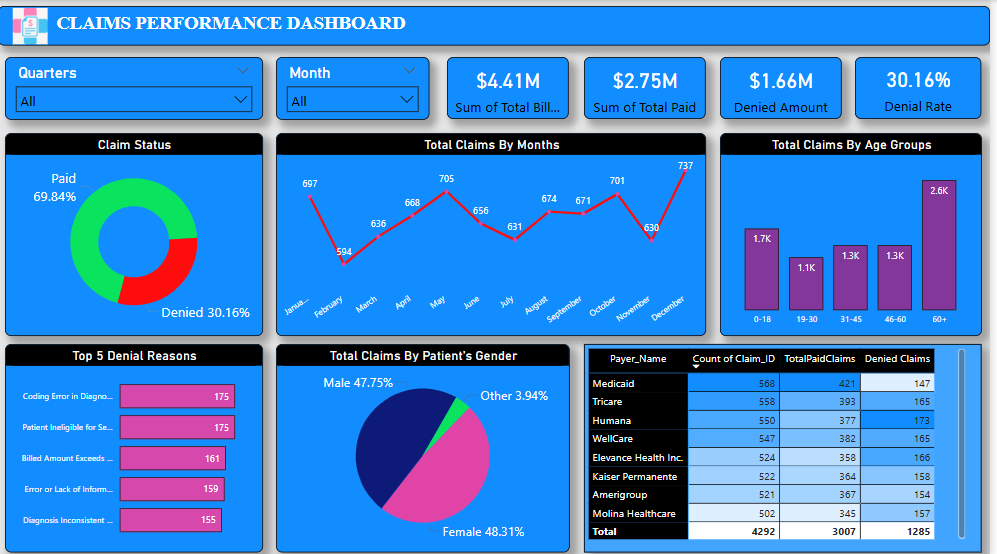

Layout of this report page (visuals, bound fields, positions):
{"tool":"powerbi","page":{"name":"Page 1","canvas":[1280,720],"ordinal":0},"visuals":[{"type":"card","fields":{"Values":["CLAIMS DATA.Total Billed"]},"box":[579.2,73.3,157.3,80.4],"z":0},{"type":"card","fields":{"Values":["CLAIMS DATA.Total Paid"]},"box":[756.2,73.3,157.3,80.4],"z":1000},{"type":"card","fields":{"Values":["CLAIMS DATA.DeniedAmount"]},"box":[931.4,73.3,157.3,80.4],"z":2000},{"type":"card","fields":{"Values":["CLAIMS DATA.Denial Rate"]},"box":[1106,73.7,163.4,79.5],"z":3000},{"type":"textbox","box":[0,7.8,1280,51.1],"z":4000},{"type":"image","box":[9.1,4.8,64.7,56.7],"z":5000},{"type":"slicer","fields":{"Values":["CLAIMS DATA.Date_of_Service.Variation.Date Hierarchy.Quarter"]},"box":[8.7,73.7,333,81],"z":6000},{"type":"slicer","fields":{"Values":["CLAIMS DATA.Date_of_Service.Variation.Date Hierarchy.Month"]},"box":[358.6,73.7,198.1,81],"z":7000},{"type":"donutChart","title":"Claim Status","fields":{"Category":["CLAIMS DATA.Claim_Status"],"Y":["CLAIMS DATA.Claim_ID"]},"box":[8.7,172,332.5,261.7],"z":8000},{"type":"lineChart","title":"Total Claims By Months","fields":{"Category":["CLAIMS DATA.Date_of_Service.Variation.Date Hierarchy.Month"],"Y":["CLAIMS DATA.Claim_ID"]},"box":[358.6,172,555.2,261.7],"z":9000},{"type":"barChart","title":"Top 5 Denial Reasons","fields":{"Category":["CLAIMS DATA.Denial_Reason"],"Y":["CLAIMS DATA.Claim_ID"]},"box":[8.7,443.9,332.5,268.9],"z":10000},{"type":"pieChart","title":"Total Claims By Patient''s Gender","fields":{"Category":["MEM INFO.Patient_Gender"],"Y":["CLAIMS DATA.Claim_ID"]},"box":[358.6,443.9,378.8,268.9],"z":11000},{"type":"columnChart","title":"Total Claims By Age Groups","fields":{"Category":["MEM INFO.Age Group"],"Y":["CLAIMS DATA.Claim_ID"]},"box":[931.1,172,338.3,261.7],"z":12000},{"type":"pivotTable","fields":{"Rows":["MEM INFO.Payer_Name"],"Values":["CLAIMS DATA.Claim_ID","CLAIMS DATA.TotalPaidClaims","CLAIMS DATA.Denied Claims"]},"box":[756.1,443.9,513.3,268.9],"z":13000}]}

Visuals, with their boxes in screenshot pixels (x1, y1, x2, y2), scaled from the page's 1280x720 canvas onto the 997x554 screenshot:
card - CLAIMS DATA.Total Billed: bbox(451, 56, 574, 118)
card - CLAIMS DATA.Total Paid: bbox(589, 56, 712, 118)
card - CLAIMS DATA.DeniedAmount: bbox(725, 56, 848, 118)
card - CLAIMS DATA.Denial Rate: bbox(861, 57, 989, 118)
textbox: bbox(0, 6, 996, 45)
image: bbox(7, 4, 57, 47)
slicer - CLAIMS DATA.Date_of_Service.Variation.Date Hierarchy.Quarter: bbox(7, 57, 266, 119)
slicer - CLAIMS DATA.Date_of_Service.Variation.Date Hierarchy.Month: bbox(279, 57, 434, 119)
"Claim Status" donutChart: bbox(7, 132, 266, 334)
"Total Claims By Months" lineChart: bbox(279, 132, 712, 334)
"Top 5 Denial Reasons" barChart: bbox(7, 342, 266, 548)
"Total Claims By Patient''s Gender" pieChart: bbox(279, 342, 574, 548)
"Total Claims By Age Groups" columnChart: bbox(725, 132, 989, 334)
pivotTable - MEM INFO.Payer_Name x CLAIMS DATA.Claim_ID: bbox(589, 342, 989, 548)
